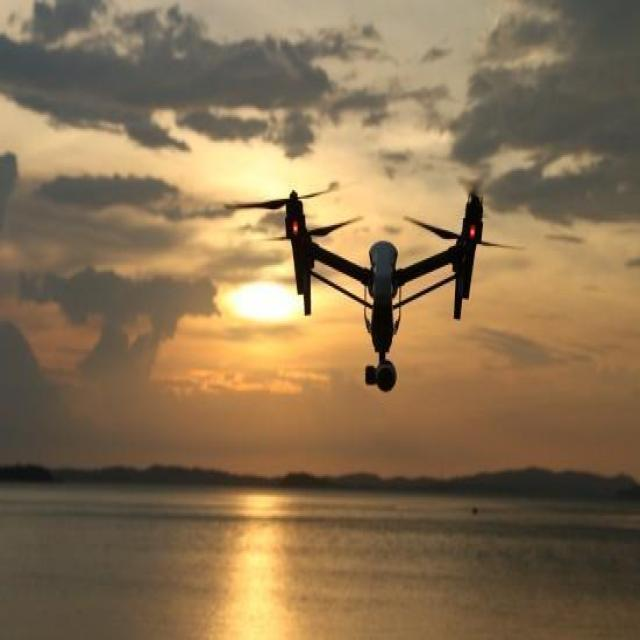drone: (256, 186, 507, 394)
